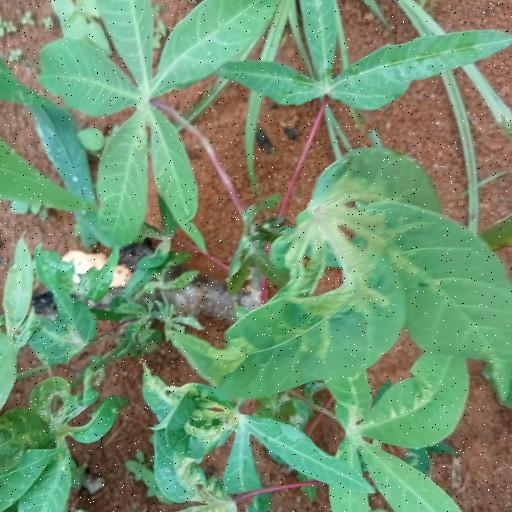Cassava_Mosaic: (188, 162, 486, 409)
